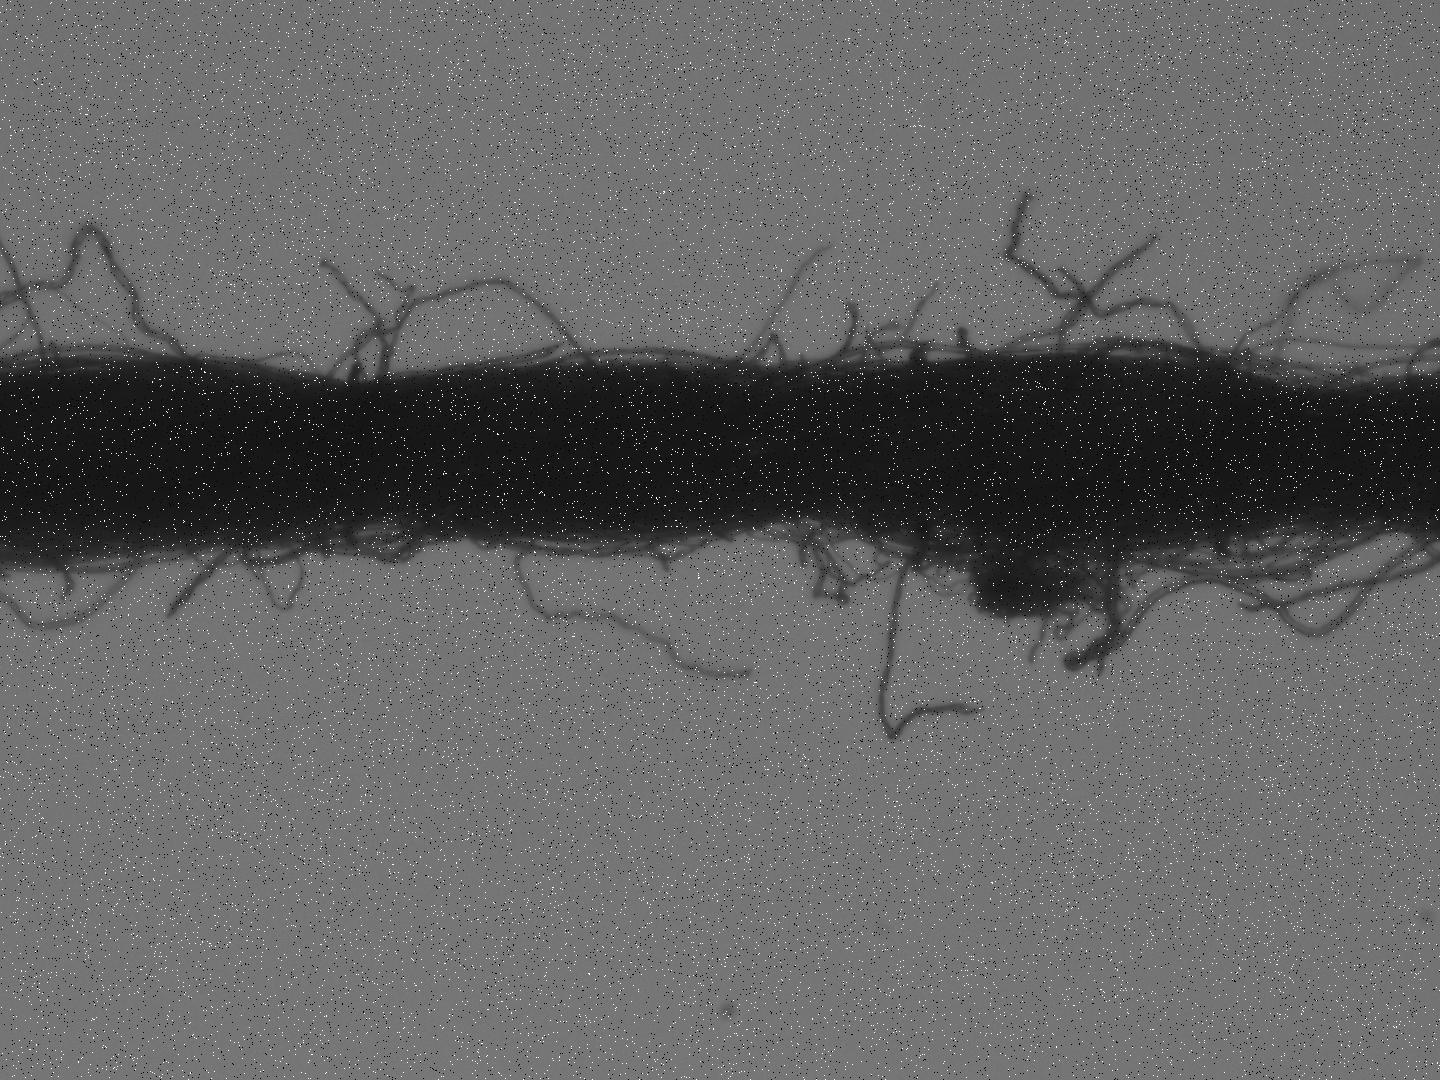loop_fiber: (350, 271, 590, 385), (1111, 521, 1371, 579), (965, 540, 1106, 636), (798, 518, 886, 585), (810, 339, 982, 368), (1081, 338, 1220, 364), (347, 514, 420, 563), (1257, 361, 1372, 390), (252, 542, 300, 611), (763, 514, 869, 542), (1248, 522, 1323, 552), (243, 537, 312, 566), (254, 348, 324, 372), (744, 335, 789, 366)
protruding_fiber: (514, 543, 745, 680), (880, 542, 973, 743), (728, 242, 836, 363), (167, 545, 225, 618), (836, 296, 858, 370), (54, 548, 69, 606)
